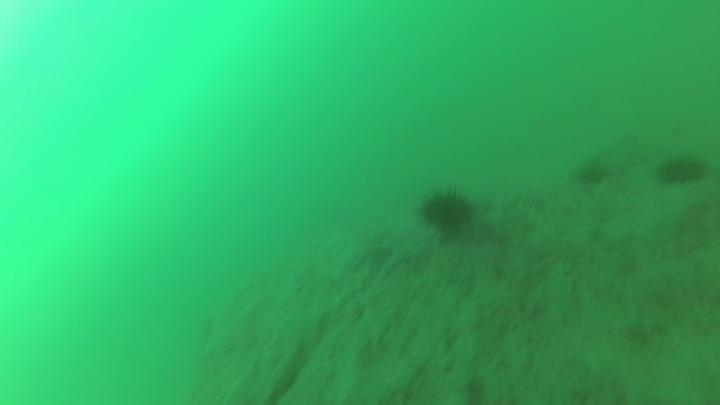echinus: (417, 184, 476, 238), (654, 151, 709, 189), (572, 156, 611, 188)
